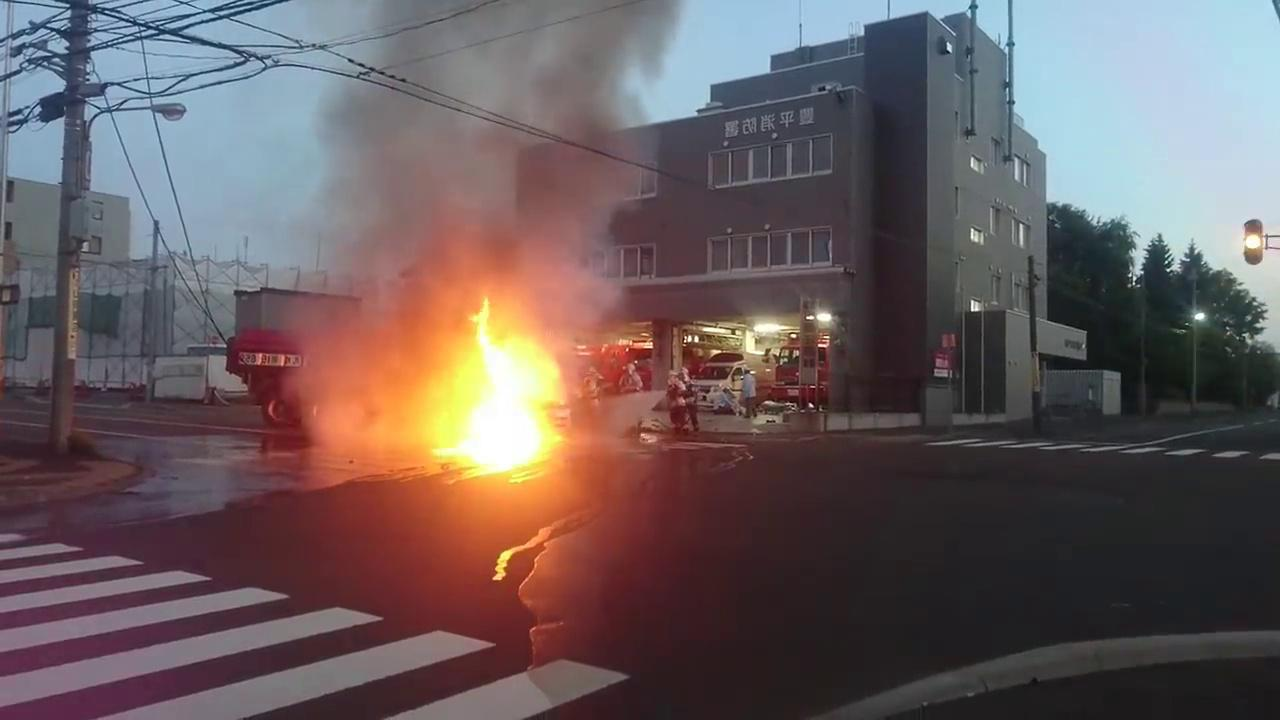Fire: (437, 305, 572, 471)
